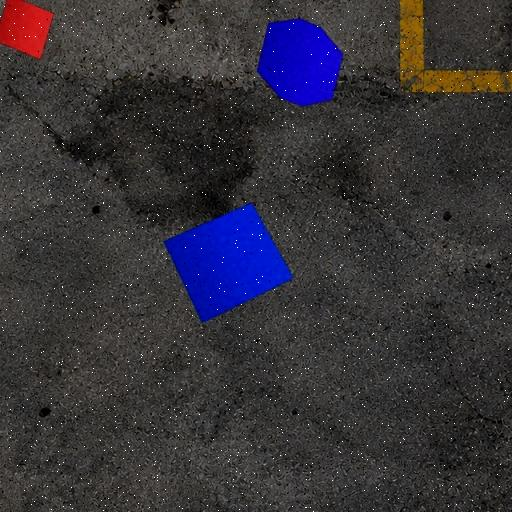BLUE_SQUARE: (164, 202, 294, 324)
RED_SQUARE: (0, 0, 54, 61)
